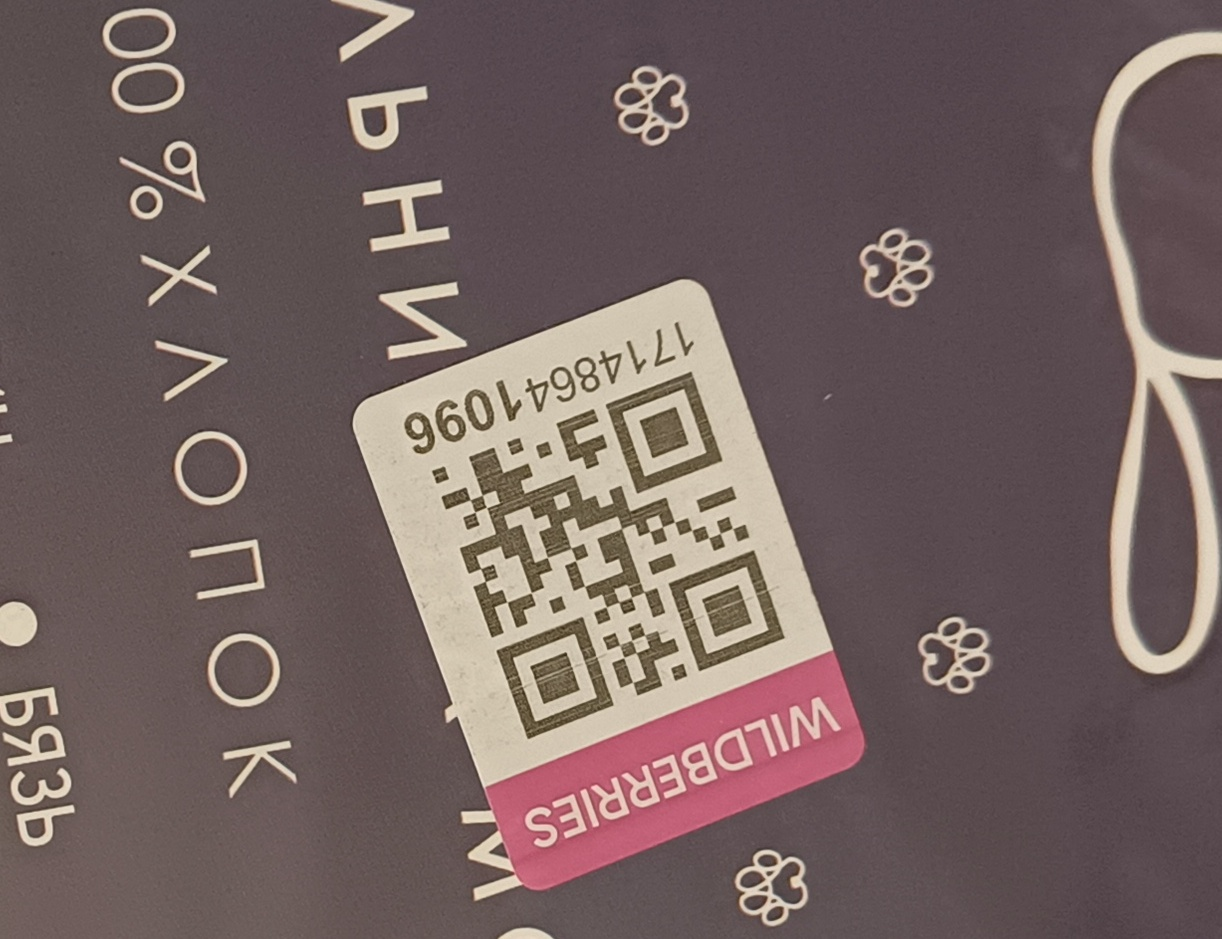2d: (425, 370, 790, 742)
